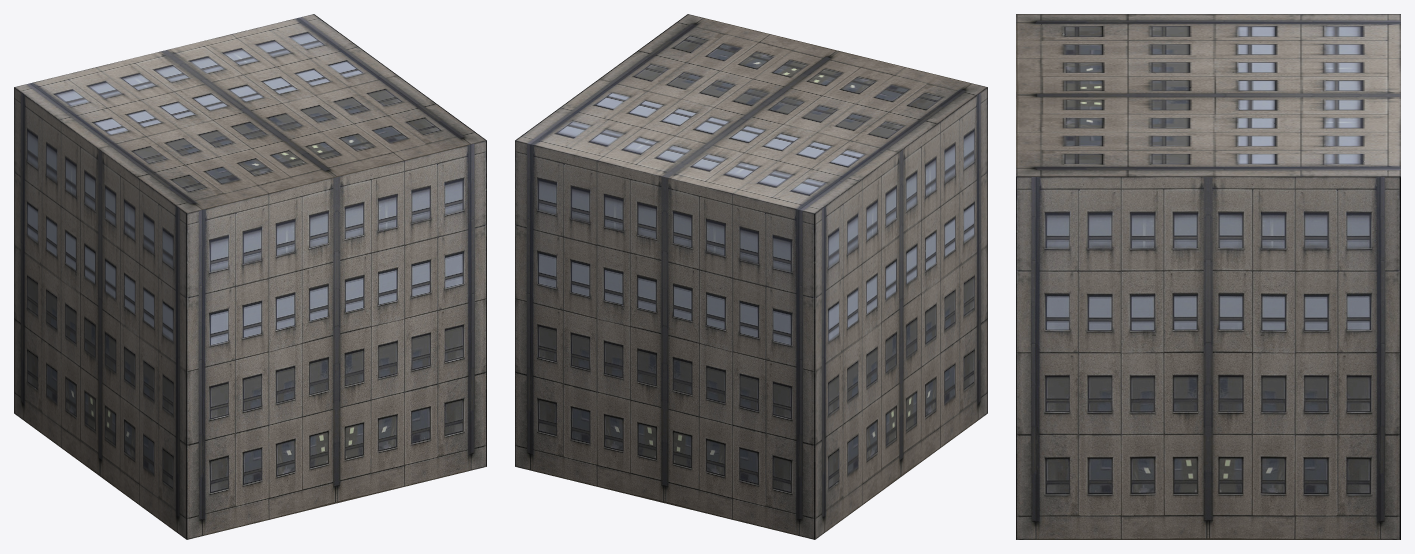
Rendered from BagSS01mid_0.fbx.
3 renders of one model, left to right at view 1: azimuth 30°, elevation 25°; view 2: azimuth 150°, elevation 25°; view 3: azimuth 270°, elevation 25°, orthographic. The views are drawn at different scales.
Visible parts, largest first — view 1: ma_Box0; view 2: ma_Box0; view 3: ma_Box0.
Part boxes in pixels (x1,y1,x2,y2): ma_Box0: (14, 14, 486, 539); ma_Box0: (515, 14, 987, 539); ma_Box0: (1016, 14, 1400, 539).
Size of the model in its own units: 17.48 by 18.16 by 17.44.
